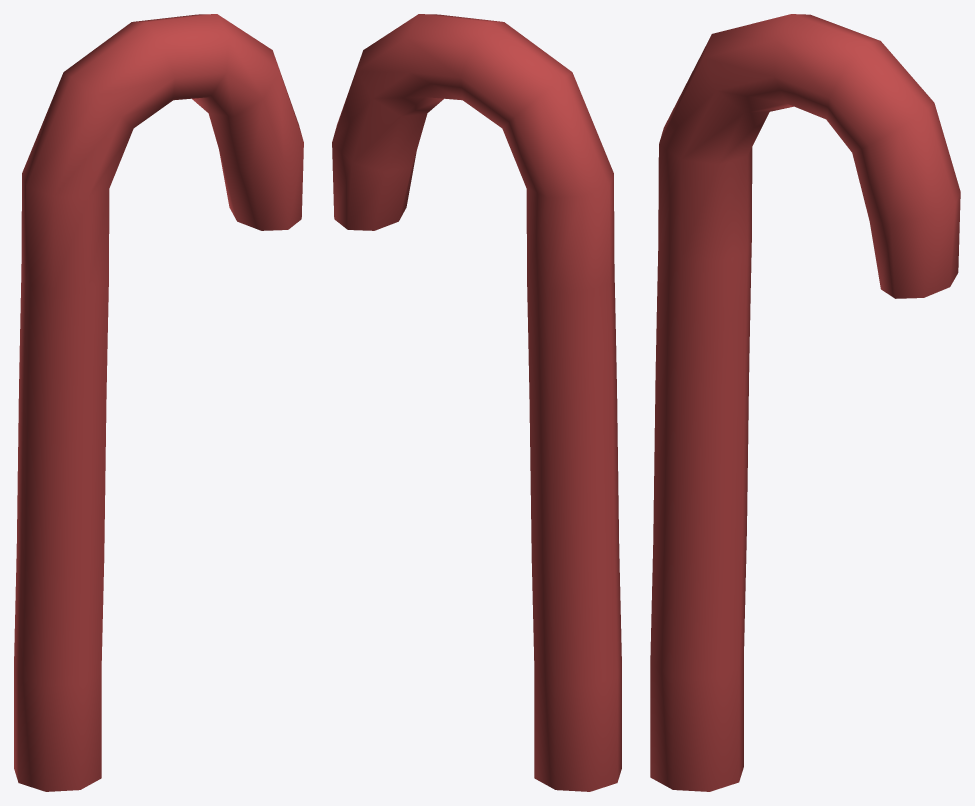
File: CandyCane.fbx
3 views of the same model, side by side, from view 1: azimuth 30°, elevation 25°; view 2: azimuth 150°, elevation 25°; view 3: azimuth 330°, elevation 25° (orthographic). The views are drawn at different scales.
Parts seen in each view (by area): view 1: CandyCane1; view 2: CandyCane1; view 3: CandyCane1.
Part boxes in pixels (left/top/right/bottom): CandyCane1: left=14, top=14, right=303, bottom=791; CandyCane1: left=332, top=14, right=621, bottom=791; CandyCane1: left=650, top=14, right=960, bottom=791.
Bounding box in the file's own units: 1.95 × 4.85 × 0.5457.
